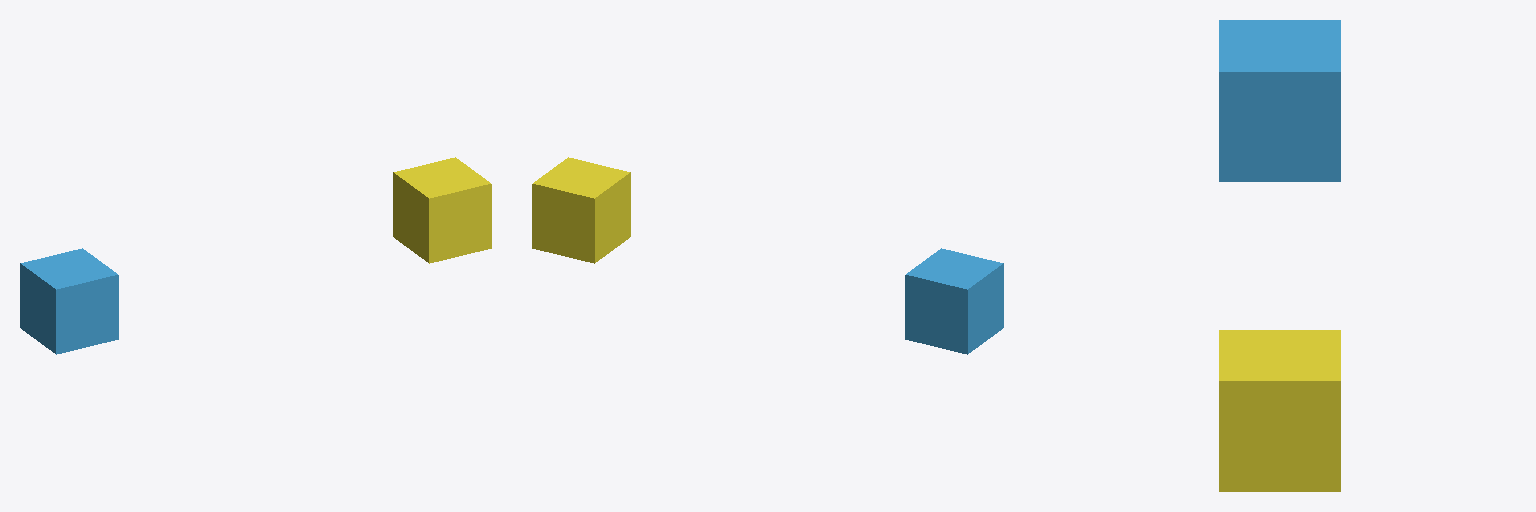
URDF robot description (robot_name):
<?xml version="1.0"?>
<robot name="robot_name">

  <!-- 

    car_body is directly connected to back wheels
    but,
      car_body is connected to a intermediate joint then that joint is connected to the front wheels
      this is so that the front wheels can revolute with that intermediate joint and,
      then the intermediate joint can be used to turn the wheel left and right

  -->

  <link name="car_body">
      <visual>
        <geometry>
          <mesh filename="file://[local-path]/project_car_urdf/assets/car.obj"/>
        </geometry>
      </visual>
  </link>

    <!-- front wheels -->

      <!-- front left wheel -->
        
        <link name="front_wheel_left_turn">
          <visual>
            <geometry>
              <box size="0.3 0.3 0.3"/>
              <!-- change this into disk brake so that it looks good and is actually contributing to the working of the urdf car -->
            </geometry>
          </visual>
        </link>

        <joint name="joint_car_to_front_wheel_left_turner" type="revolute">
          <origin xyz="-0.9 1.02 0.2"/>
          <parent link="car_body"/>
          <child link="front_wheel_left_turn"/>
          <axis xyz="0 0 1"/>
          <limit lower="-0.44" upper="0.44" effort="100" velocity="1.0"/>
        </joint>

        <link name="wheel_front_left">
          <visual>
            <!-- manipulating the origin xyz in the visual block offsets the mesh from the origin  -->
            <origin xyz="0.0 0.0 0.0"/>
            <geometry>
                <mesh filename="file://[local-path]/project_car_urdf/assets/wheel.obj"/>
            </geometry>
          </visual>
        </link>

        <joint name="joint_car_to_left_turner_to_wheel_front_left" type="continuous">
          <origin xyz="-0.0 0.0 0.0"/>
          <parent link="front_wheel_left_turn"/>
          <child link="wheel_front_left"/>
          <axis xyz="1 0 0"/>
        </joint>

    <!-- end of front left wheel -->

    <!-- front right wheel -->
    
      <link name="front_wheel_right_turn">
        <visual>
          <geometry>
            <box size="0.3 0.3 0.3"/>
            <!-- change this into disk brake so that it looks good and is actually contributing to the working of the urdf car -->
          </geometry>
        </visual>
      </link>

      <joint name="car_to_front_right_turner" type="revolute">
        <origin xyz="+0.9 1.02 0.2"/>
        <parent link="car_body"/>
        <child link="front_wheel_right_turn"/>
        <limit lower="-0.44" upper="0.44" effort="100" velocity="1.0"/>
        <axis xyz="0 0 1"/>
      </joint>

      <link name="wheel_front_right">
        <visual>
          <!-- manipulating the origin xyz in the visual block offsets the mesh from the origin  -->
          <origin xyz="0.0 0.0 0.0" rpy="0 0 3.14"/>
          <geometry>
              <mesh filename="file://[local-path]/project_car_urdf/assets/wheel.obj"/>
          </geometry>
        </visual>
      </link>

      <joint name="joint_car_right_turner_to_wheel_front_right" type="continuous">
        <origin xyz="+0.0 0.0 0.0"/>
        <parent link="front_wheel_right_turn"/>
        <child link="wheel_front_right"/>
        <axis xyz="1 0 0"/>
      </joint>

    <!-- end of front left wheel -->

  <!-- end of front wheels -->

  <!-- back wheels -->

    <!-- back wheel left -->
      <link name="wheel_rear_left">
        <visual>
          <geometry>
            <mesh filename="file://[local-path]/project_car_urdf/assets/wheel.obj"/>
          </geometry>
        </visual>
      </link>

      <joint name="joint_car_to_rear_wheel_left" type="continuous">
        <parent link="car_body"/>
        <child link="wheel_rear_left"/>
        <axis xyz="1 0 0"/>
        <origin xyz="-0.9 -1.05 0.2"/>
      </joint>
    <!-- end of back wheel left -->

    <!-- back wheel right -->

    <link name="wheel_rear_right">
      <visual>
        <origin rpy="0.0 0.0 3.14"/>
        <geometry>
            <mesh filename="file://[local-path]/project_car_urdf/assets/wheel.obj"/>
        </geometry>
      </visual>
    </link>

    <joint name="joint_car_to_rear_wheel_right" type="continuous">
      <parent link="car_body"/>
      <child link="wheel_rear_right"/>
      <axis xyz="1 0 0"/>
      <origin xyz="+0.9 -1.05 0.2"/>
    </joint>

    <!-- end of back wheel right -->

  <!-- back wheel -->


</robot>

--- Render facts (derived) ---
The picture shows the robot from 3 angles, left to right: view 1: azimuth 30°, elevation 25°; view 2: azimuth 150°, elevation 25°; view 3: azimuth 270°, elevation 25°; orthographic projection.
Model robot_name with 7 links and 6 joints (2 revolute, 4 continuous), rooted at car_body, posed every joint at zero.
Links seen in each view (by area): view 1: front_wheel_left_turn, front_wheel_right_turn; view 2: front_wheel_left_turn, front_wheel_right_turn; view 3: front_wheel_left_turn, front_wheel_right_turn.
Link boxes in pixels (left/top/right/bottom): front_wheel_left_turn: left=20, top=248, right=118, bottom=354; front_wheel_right_turn: left=393, top=157, right=491, bottom=263; front_wheel_left_turn: left=905, top=248, right=1003, bottom=354; front_wheel_right_turn: left=532, top=157, right=630, bottom=263; front_wheel_left_turn: left=1219, top=20, right=1340, bottom=181; front_wheel_right_turn: left=1219, top=330, right=1340, bottom=491.
Bounding box of the posed robot: 2.1 × 0.3 × 0.3 m (x, y, z).
Geometry: only primitive shapes (box / cylinder / sphere) drawn; not drawn: 5 mesh visuals (reference in a form the renderer does not follow).